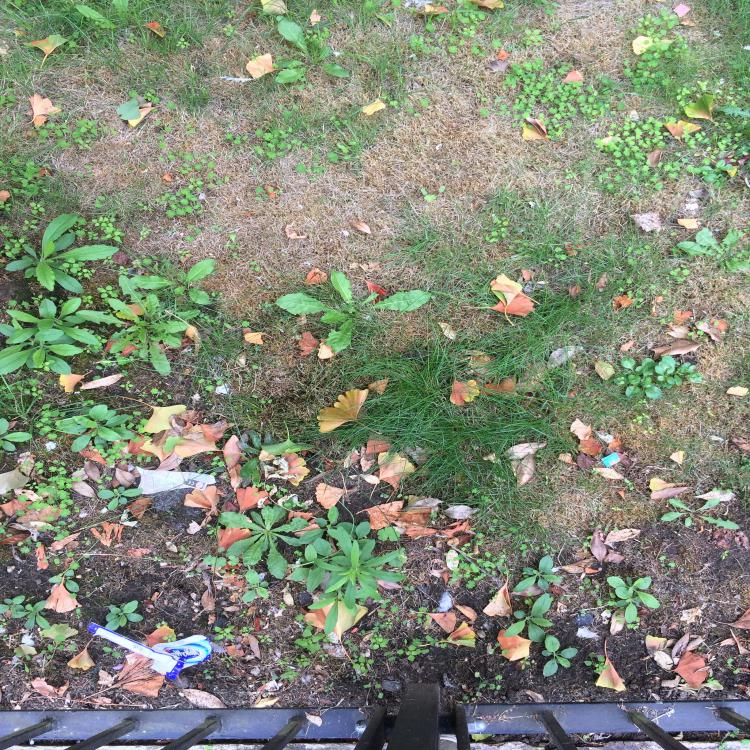Other carton: (601, 452, 620, 467)
Other plastic: (88, 622, 212, 679)
Unlabeled litter: (136, 467, 216, 494)
